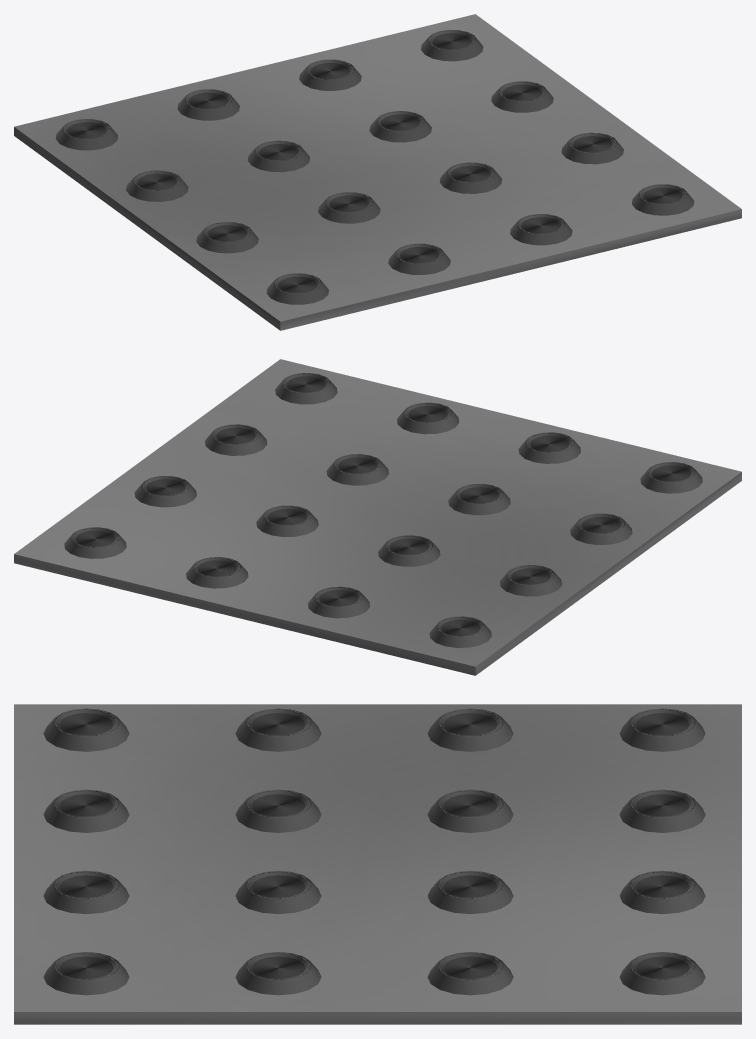
The model's file is Cave_Trap Plane.fbx.
The picture shows the model from 3 angles, top to bottom: view 1: azimuth 30°, elevation 25°; view 2: azimuth 150°, elevation 25°; view 3: azimuth 270°, elevation 25°; orthographic projection. The views are drawn at different scales.
Parts seen in each view (by area): view 1: Cube.006; view 2: Cube.006; view 3: Cube.006.
Boxes of the visible parts, x1,y1,x2,y2 form: Cube.006: (14, 14, 741, 330); Cube.006: (14, 359, 741, 675); Cube.006: (14, 704, 741, 1024).
Bounding box in the file's own units: 78.74 × 2.78 × 78.74.
Materials: 1 (1 with a texture image).
